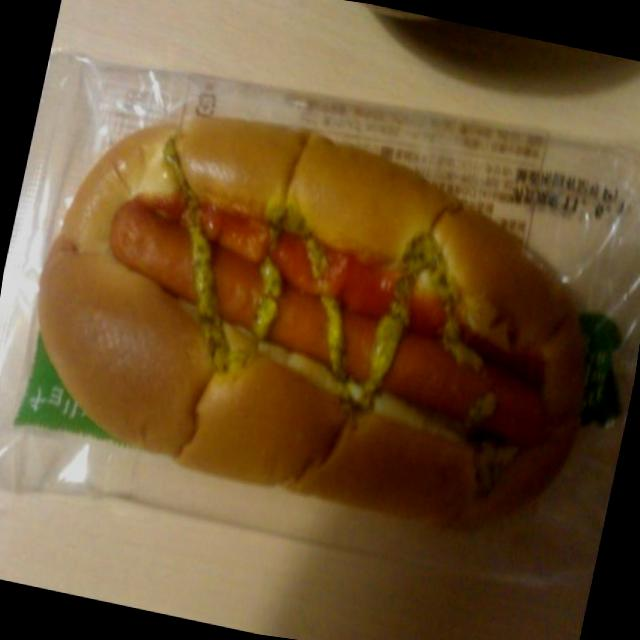Hot Dog: (0, 86, 635, 569)
